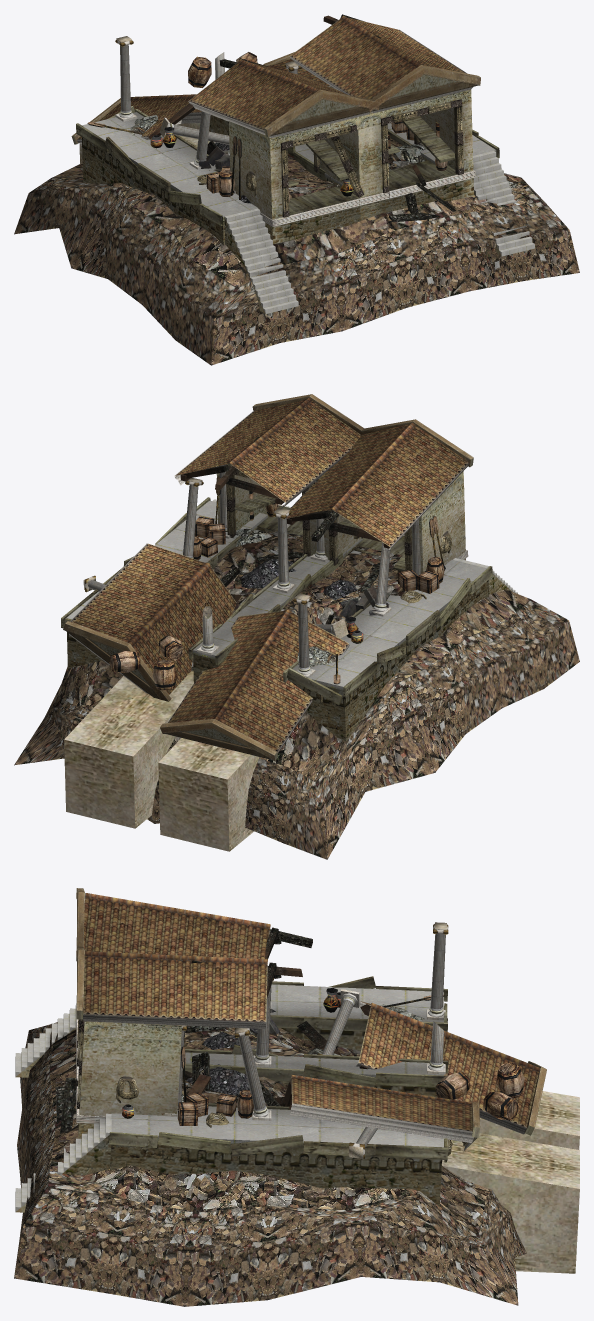
Rendered from rubble_hele_dock.glb.
3 views of the same model, one above another, from view 1: azimuth 30°, elevation 25°; view 2: azimuth 150°, elevation 25°; view 3: azimuth 270°, elevation 25° (orthographic). The views are drawn at different scales.
Parts seen in each view (by area): view 1: rubble_hele_dock_part0, rubble_hele_dock_part2, rubble_hele_dock_part4, rubble_hele_dock_part1, rubble_hele_dock_part3, rubble_hele_dock_part5; view 2: rubble_hele_dock_part2, rubble_hele_dock_part0, rubble_hele_dock_part3, rubble_hele_dock_part1, rubble_hele_dock_part4, rubble_hele_dock_part5; view 3: rubble_hele_dock_part0, rubble_hele_dock_part2, rubble_hele_dock_part3, rubble_hele_dock_part4, rubble_hele_dock_part1, rubble_hele_dock_part5.
Boxes of the visible parts, x1,y1,x2,y2 form: rubble_hele_dock_part0: (14, 14, 579, 365); rubble_hele_dock_part2: (71, 18, 501, 313); rubble_hele_dock_part4: (82, 112, 534, 314); rubble_hele_dock_part1: (87, 44, 475, 226); rubble_hele_dock_part3: (76, 15, 472, 193); rubble_hele_dock_part5: (188, 52, 257, 87); rubble_hele_dock_part2: (61, 394, 512, 761); rubble_hele_dock_part0: (14, 436, 579, 859); rubble_hele_dock_part3: (64, 397, 469, 851); rubble_hele_dock_part1: (88, 464, 468, 705); rubble_hele_dock_part4: (65, 499, 517, 690); rubble_hele_dock_part5: (109, 635, 182, 690); rubble_hele_dock_part0: (14, 917, 526, 1306); rubble_hele_dock_part2: (15, 888, 546, 1212); rubble_hele_dock_part3: (83, 893, 579, 1273); rubble_hele_dock_part4: (15, 984, 443, 1211); rubble_hele_dock_part1: (76, 933, 452, 1162); rubble_hele_dock_part5: (435, 1062, 524, 1120).
Bounding box in the file's own units: 6.54 × 4.37 × 7.16.
Materials: 5 (5 with a texture image).
